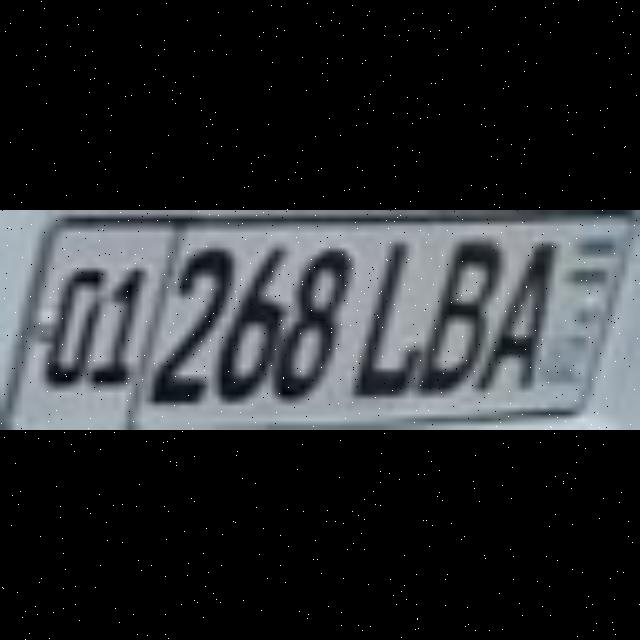0: (40, 263, 100, 383)
1: (86, 264, 140, 376)
2: (140, 244, 226, 396)
6: (207, 244, 280, 396)
8: (267, 244, 347, 390)
A: (467, 236, 547, 384)
B: (413, 236, 493, 390)
L: (347, 236, 407, 390)
